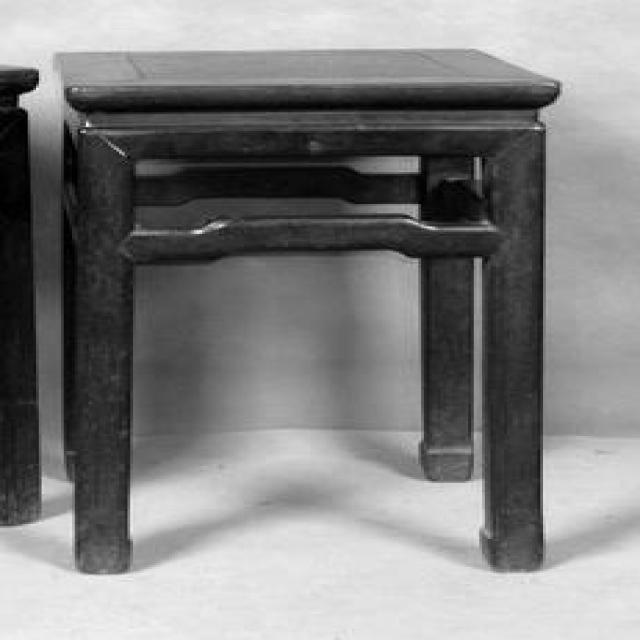table: (39, 50, 558, 573)
